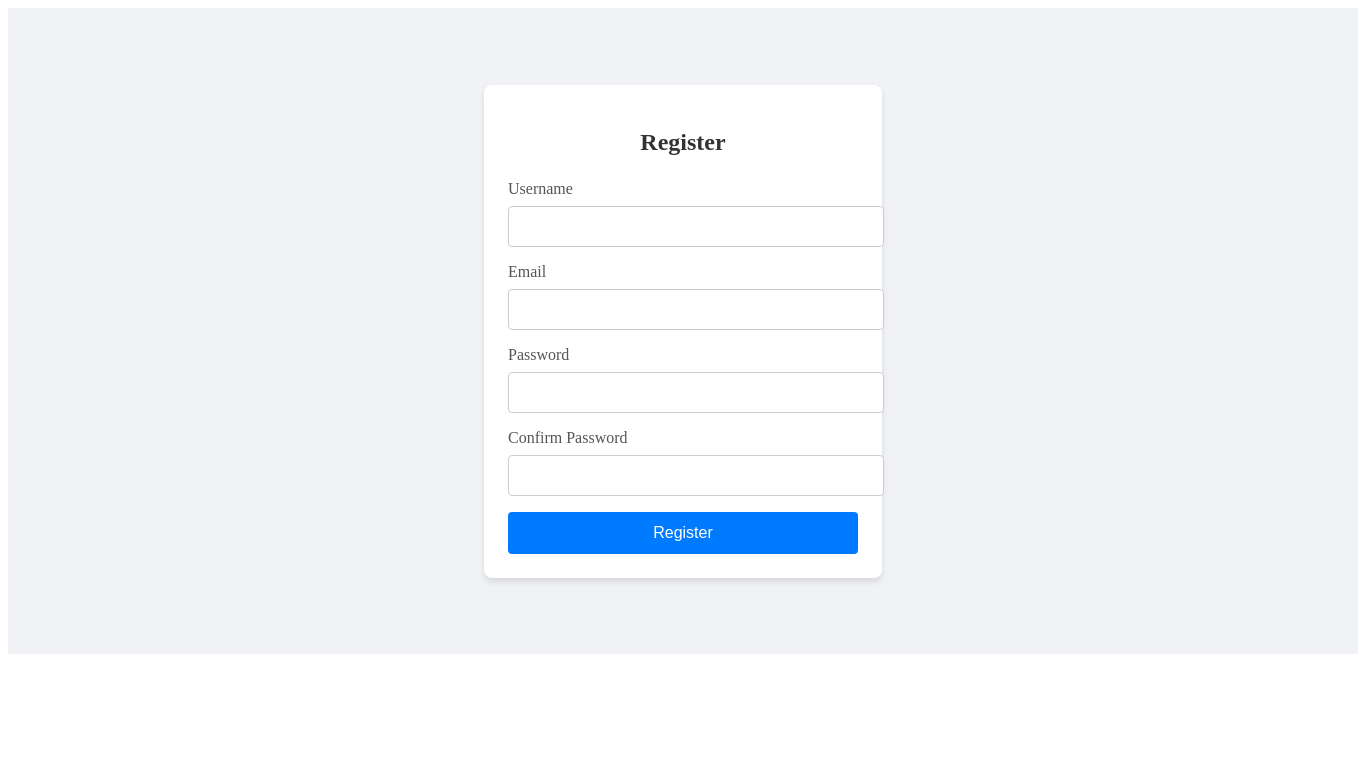
Register Component › should display error message on registration failure
Type "existinguser" into the field labelled "Username" at (696, 226), box [508,206,884,247]
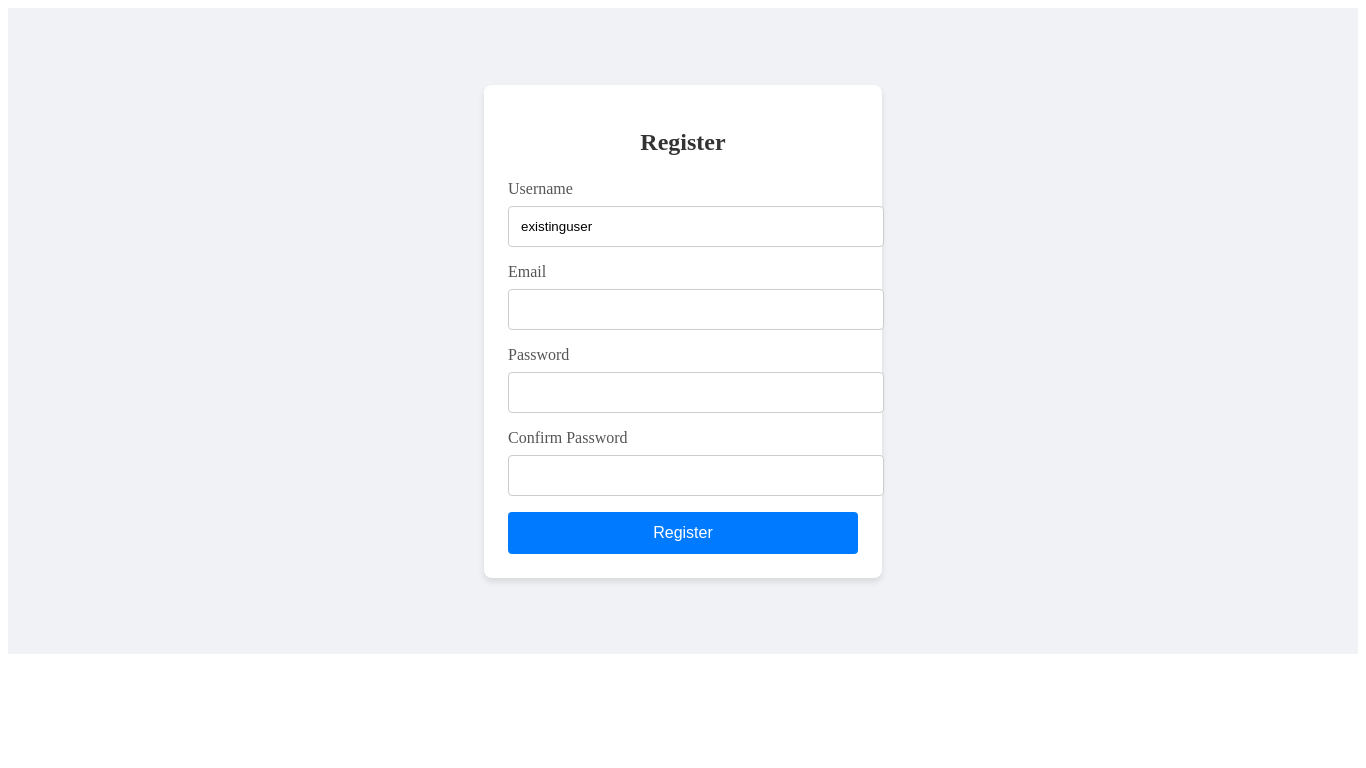
Type "existing@example.com" into the field labelled "Email" at (696, 309), box [508,289,884,330]
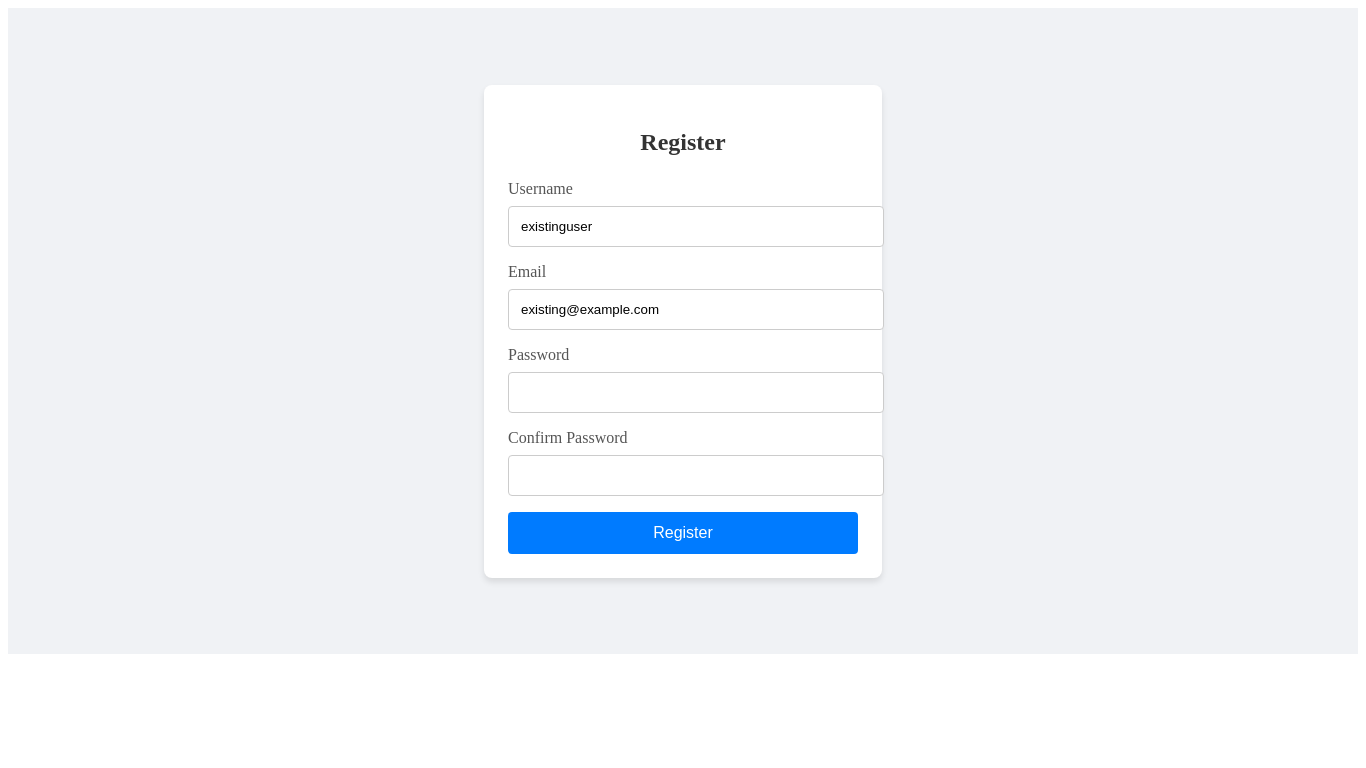
Type "password123" into the password field labelled "Password" at (696, 392), box [508,372,884,413]
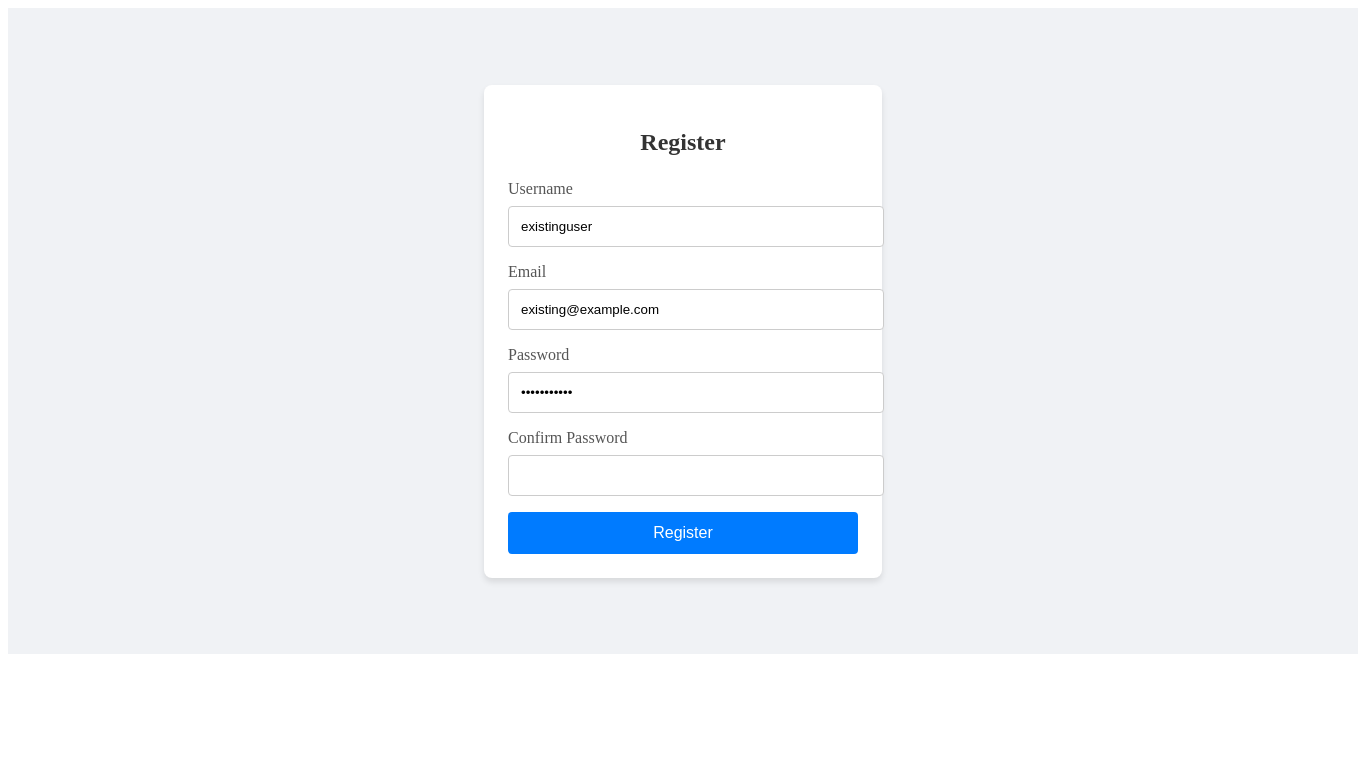
Type "password123" into the password field labelled "Confirm Password" at (696, 475), box [508,455,884,496]
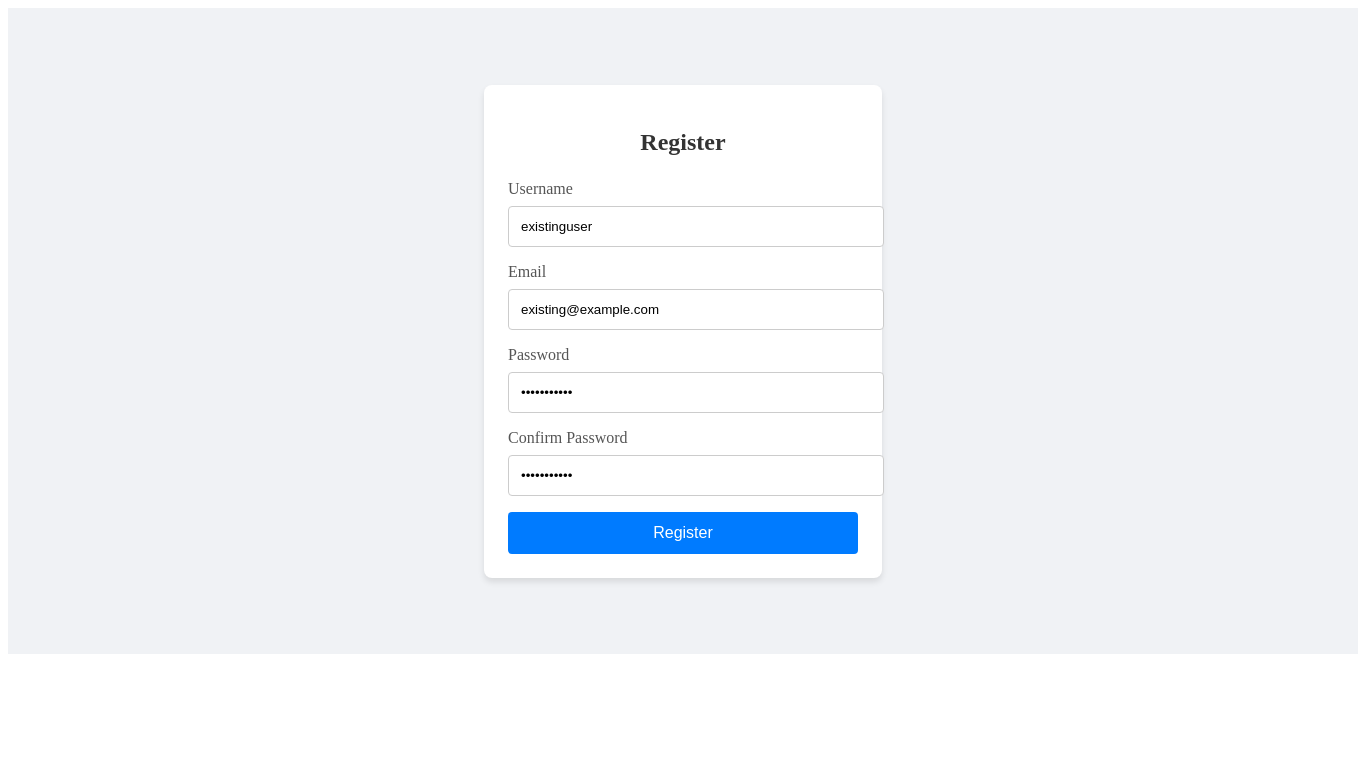
Click the button "Register" at (683, 533), box [508,512,858,554]
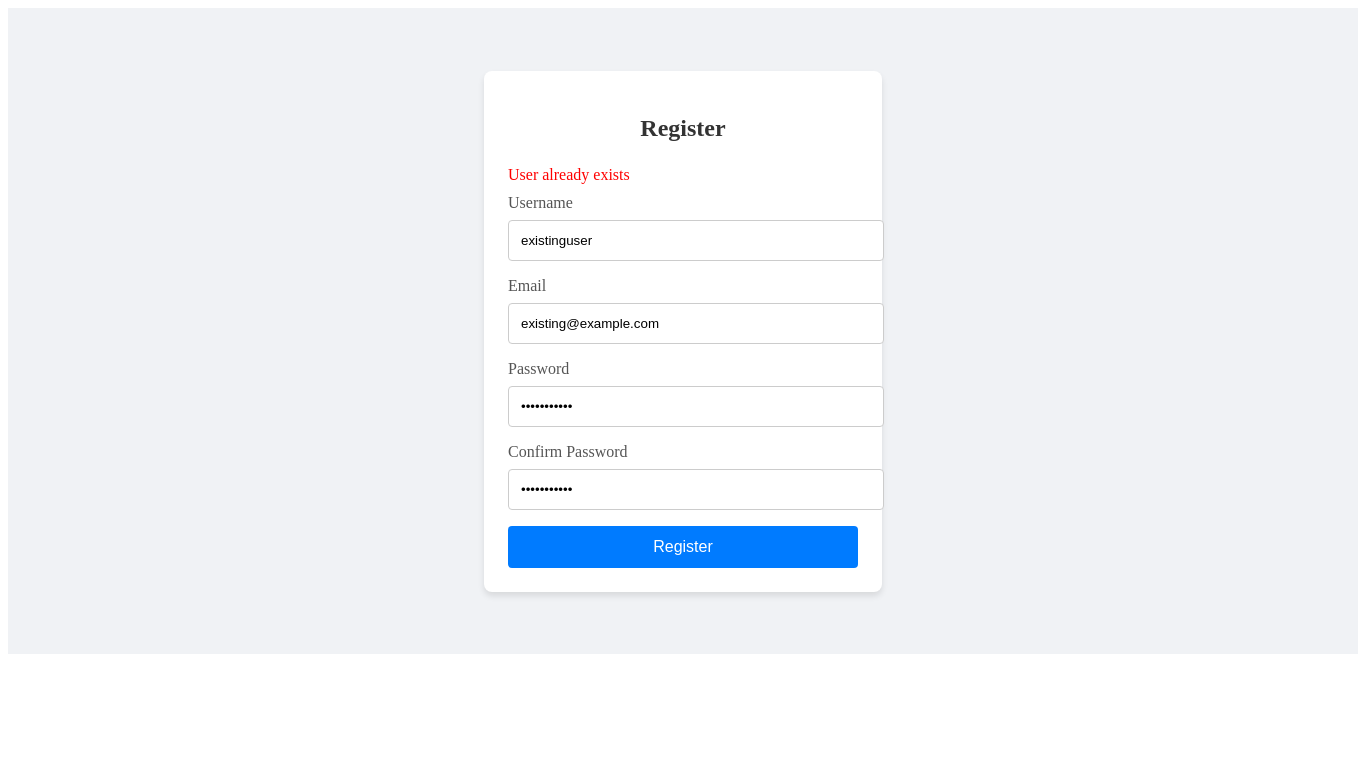
Result: the text "User already exists" is shown at [508,166,630,183]
